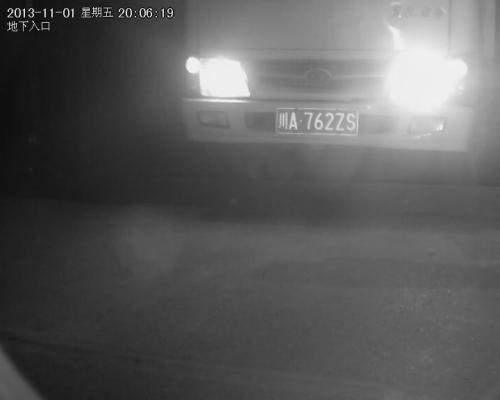Carplate: (271, 102, 363, 141)
